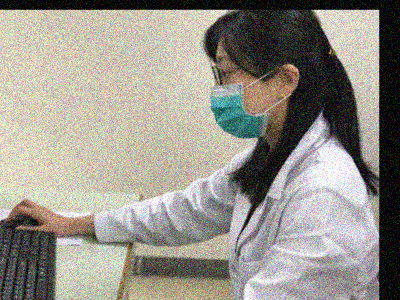with_mask: (210, 51, 276, 137)
